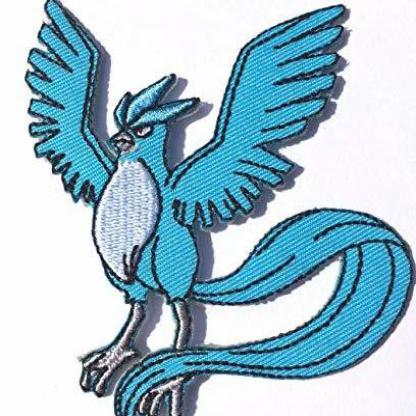Articuno: (6, 1, 416, 416)
